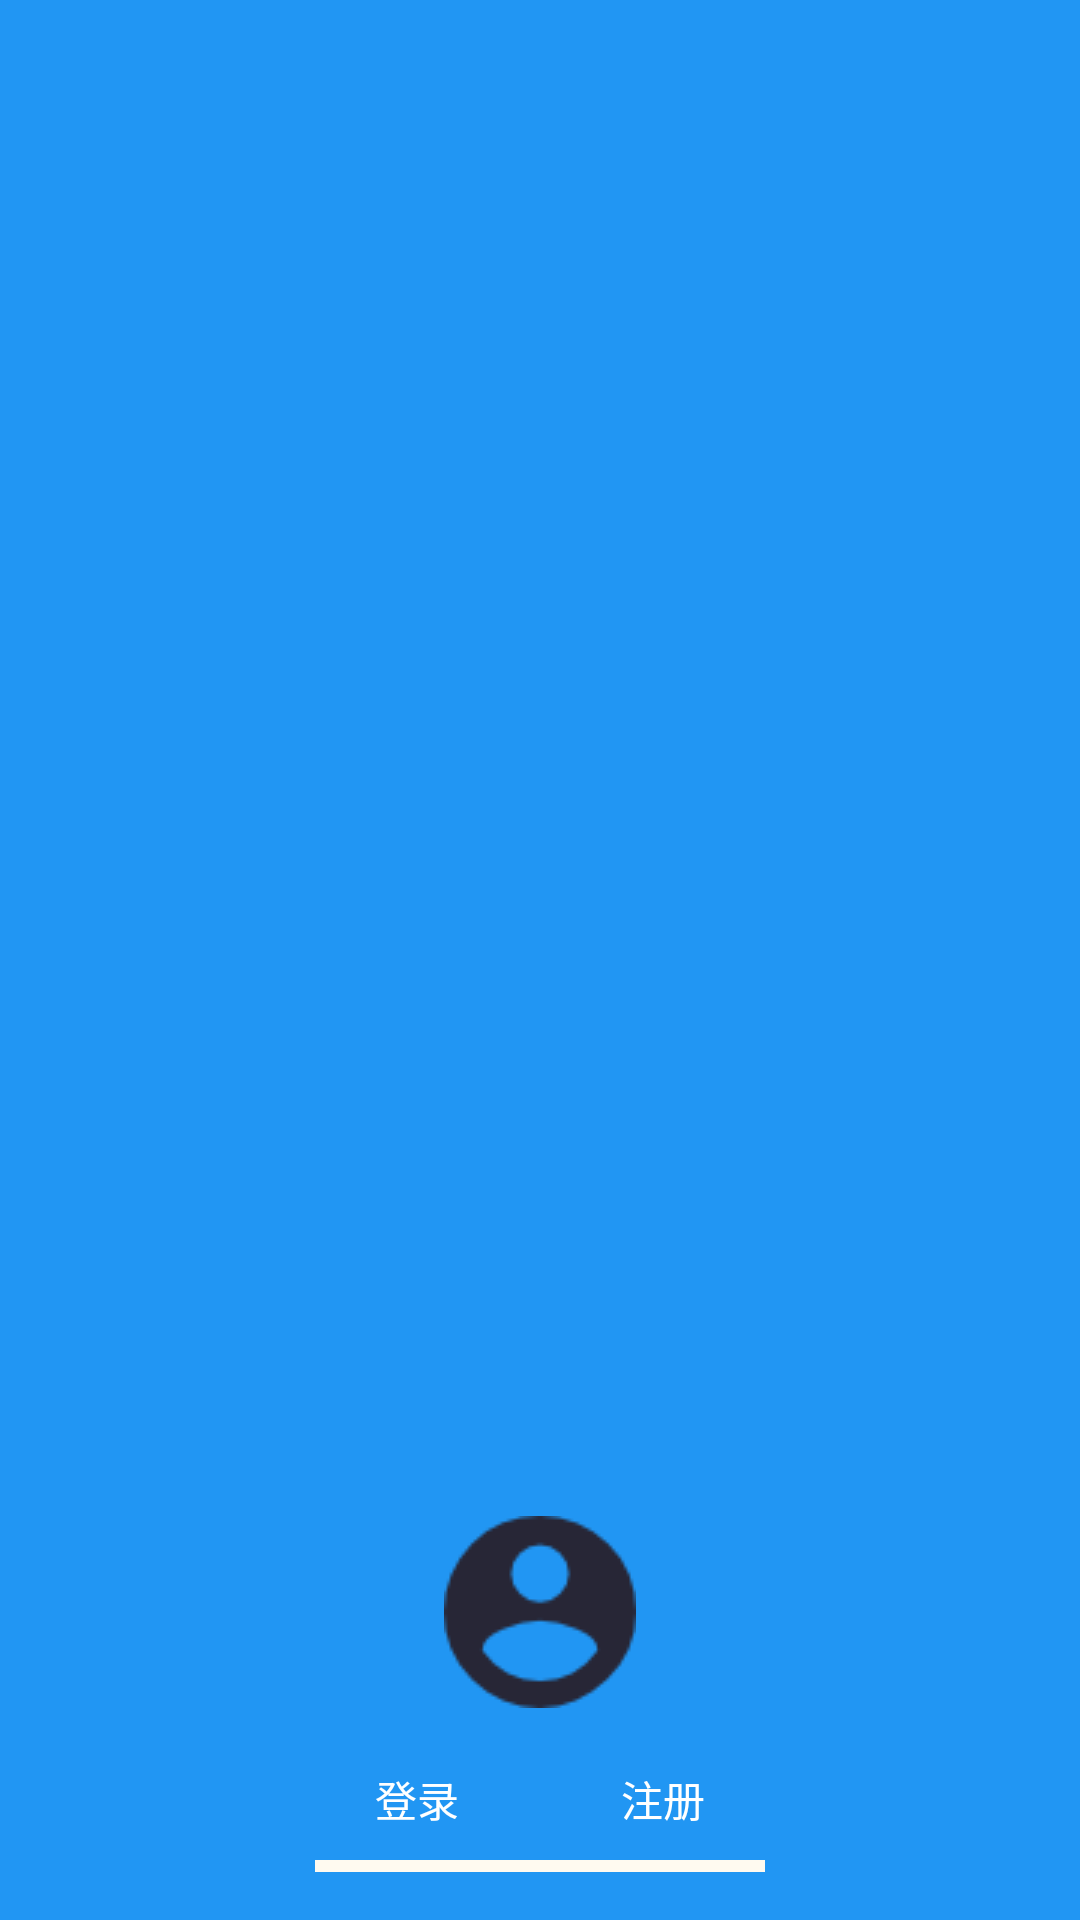

Screen size 1080 x 1920. Icon name, then its box in pixels as bbox(x1, y1, x2, y2):
iconfont login: bbox(444, 1516, 636, 1708)
